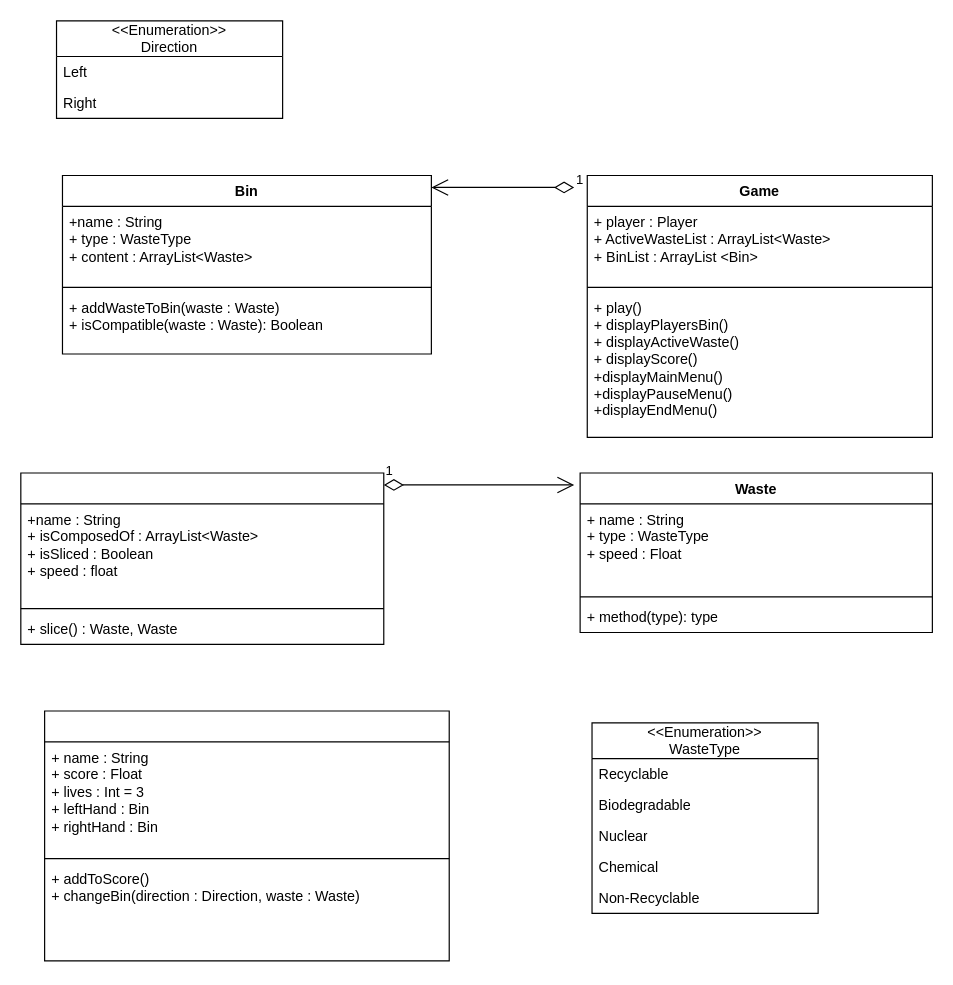
This 953x985 diagram has some shape labels left out. The shapes that lost their labels are listed below. From the top down, each one's box as (x1, y1, x2, y2) in pixels, then its label:
(20, 472, 384, 644): ComposedWaste
(43, 710, 449, 961): Player
